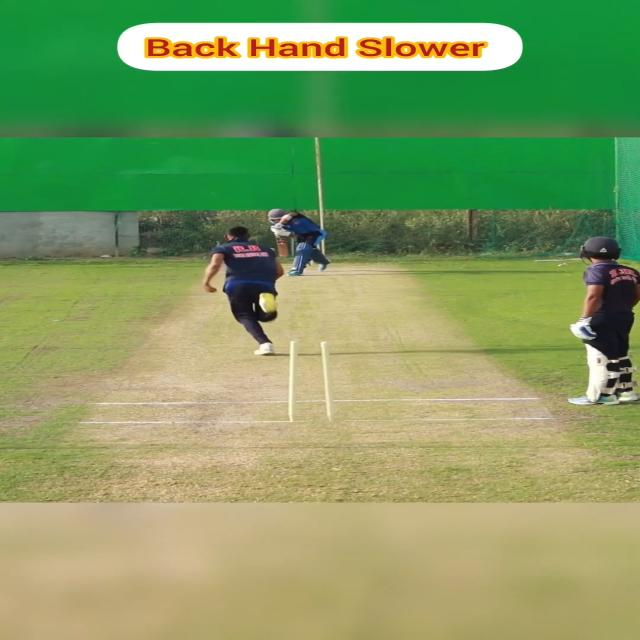stump: (283, 339, 336, 421)
